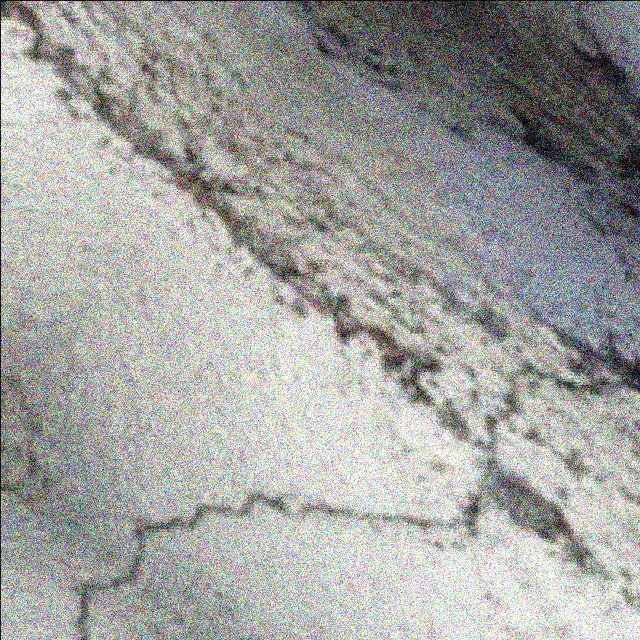SurfaceCrack: (60, 330, 638, 640)
